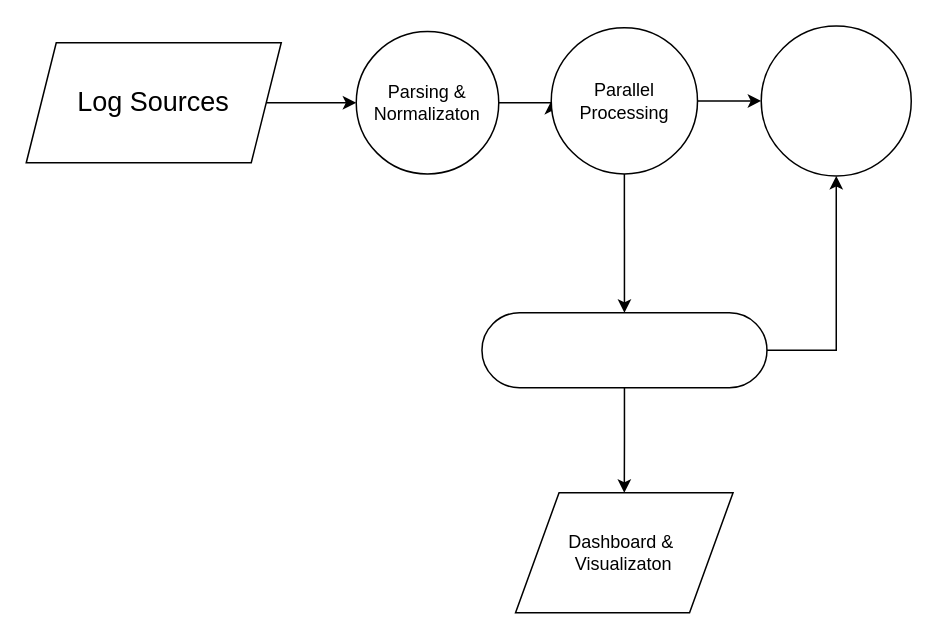
Some shapes in this 938 by 641 pixel diagram are drawn without their labels. Here are the shapes that lost their labels. From the top down, the centre of each, then its label:
At [835,100]: "Anomaly Detection".
At [623,349]: "Log Database".
